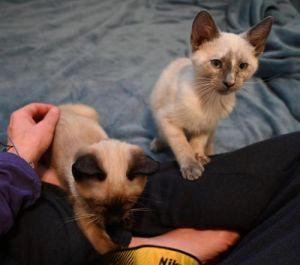siamese: (185, 6, 277, 102)
